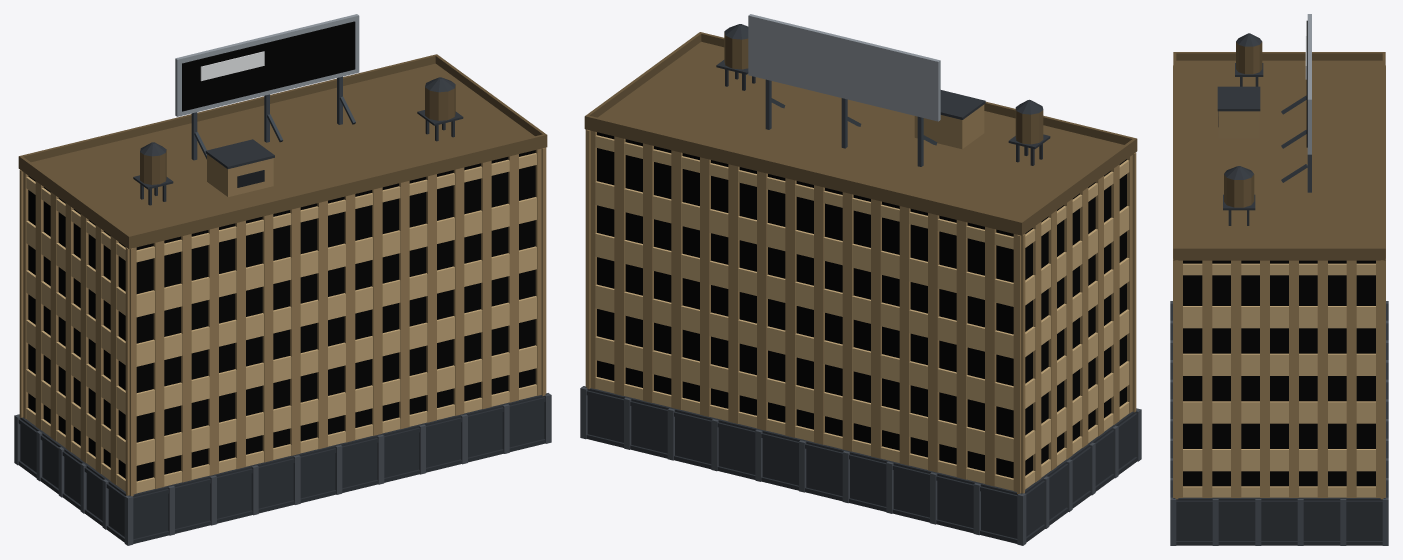
The model's file is env_city_midrise.fbx.
3 views of the same model, side by side, from view 1: azimuth 30°, elevation 25°; view 2: azimuth 150°, elevation 25°; view 3: azimuth 270°, elevation 25° (orthographic). The views are drawn at different scales.
Parts seen in each view (by area): view 1: env_city_midrise; view 2: env_city_midrise; view 3: env_city_midrise.
Part boxes in pixels (left/top/right/bottom): env_city_midrise: left=14, top=14, right=551, bottom=545; env_city_midrise: left=580, top=14, right=1141, bottom=545; env_city_midrise: left=1170, top=14, right=1388, bottom=545.
Bounding box in the file's own units: 9320 × 8500 × 4320.
